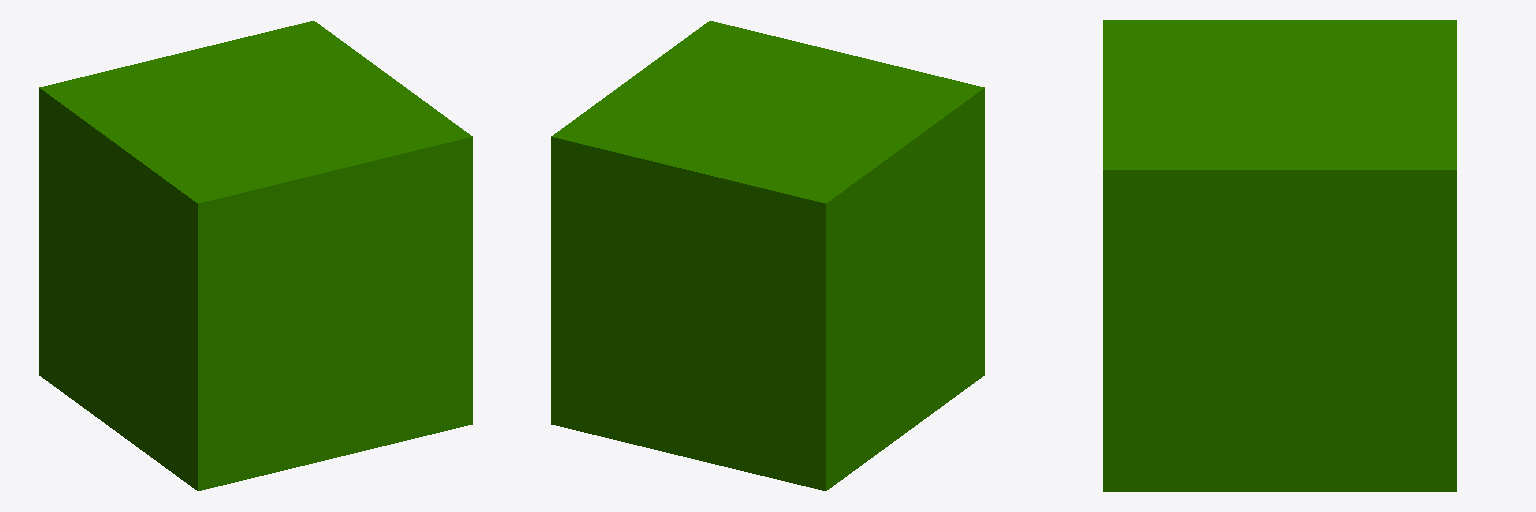
The robot description file, URDF, robot "random_box":
<?xml version='1.0' encoding='UTF-8'?>
<robot name="random_box">
  <link name="box">
    <visual>
      <geometry>
        <box size="0.05 0.05 0.05"/>
      </geometry>
      <material name="color">
        <color rgba="0.24136897618387543 0.5560610909150081 0 1"/>
      </material>
    </visual>
    <collision>
      <geometry>
        <box size="0.05 0.05 0.05"/>
      </geometry>
    </collision>
  </link>
</robot>

--- Facts derived from the render (not from the file) ---
Views: 3 orthographic renders of the robot side by side, from view 1: azimuth 30°, elevation 25°; view 2: azimuth 150°, elevation 25°; view 3: azimuth 270°, elevation 25°.
Model random_box with 1 links and 0 joints (none), rooted at box, posed every joint at zero.
Visible links, largest first — view 1: box; view 2: box; view 3: box.
Link boxes in pixels (x1,y1,x2,y2): box: (39, 21, 472, 490); box: (551, 21, 984, 490); box: (1103, 20, 1456, 491).
Bounding box of the posed robot: 0.05 × 0.05 × 0.05 m (x, y, z).
Geometry: primitives only (box / cylinder / sphere), no mesh files.